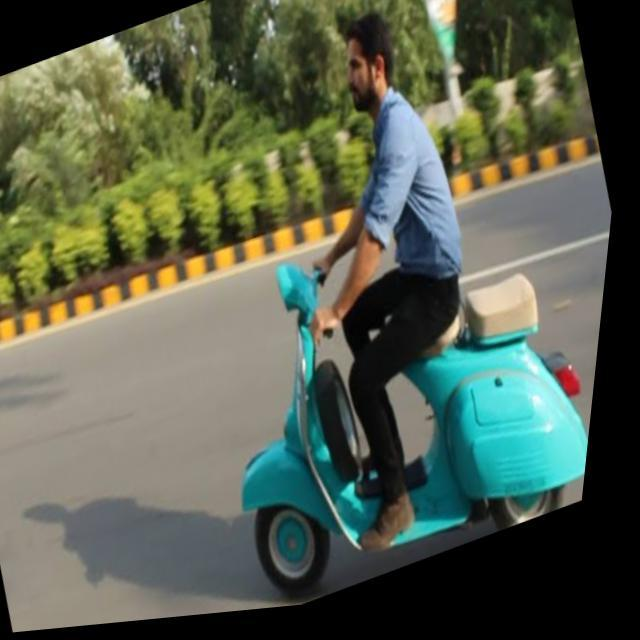Nonhelmet: (326, 5, 402, 115)
